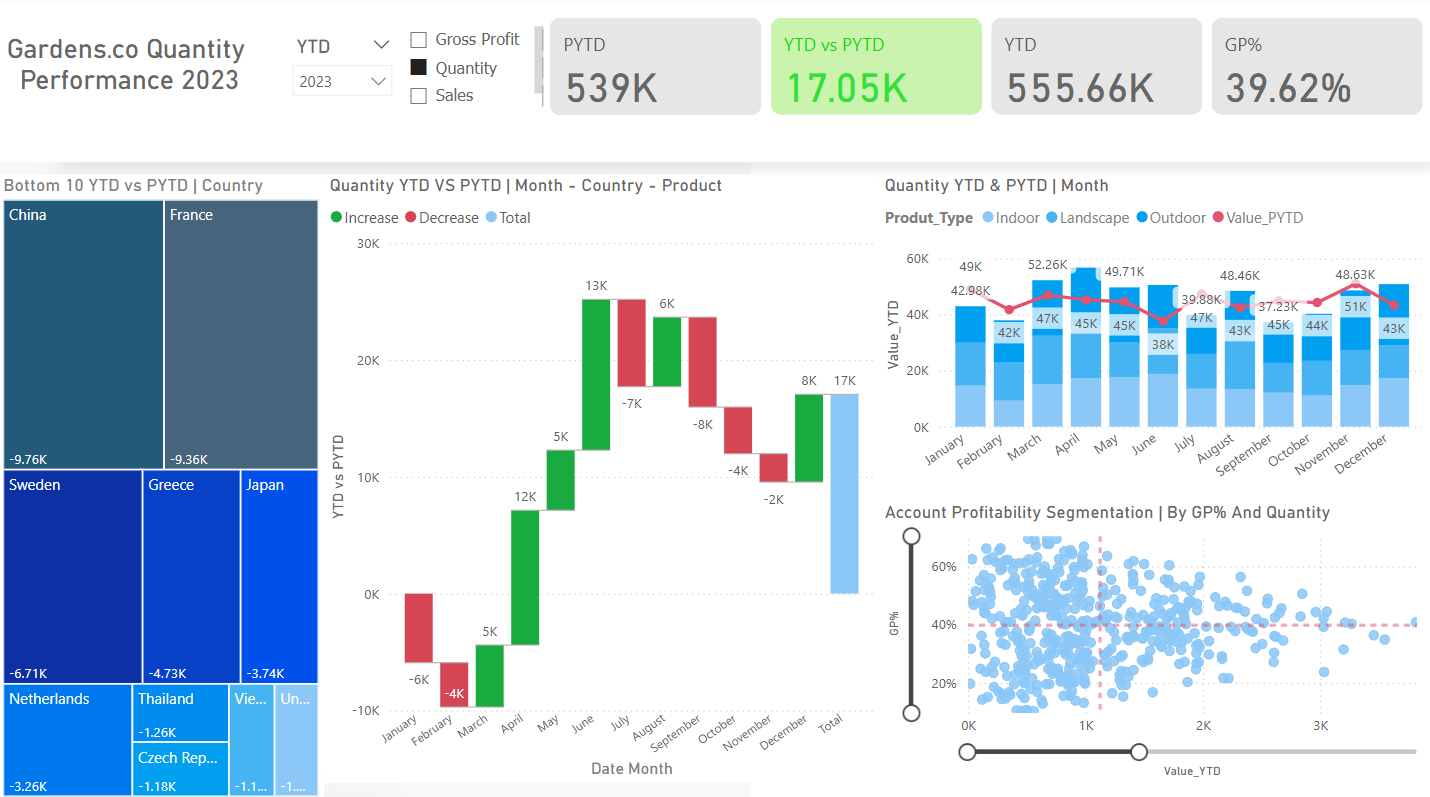

What the dashboard file says about the page in this screenshot:
{"tool":"powerbi","page":{"name":"Performance_report","canvas":[1280,720],"ordinal":0},"visuals":[{"type":"cardVisual","fields":{"Data":["formulas.sl_PYTD","formulas.YTD vs PYTD","formulas.sl_YTD","formulas.GP%"]},"box":[488,14.5,792.8,97.1],"z":0},{"type":"slicer","fields":{"Values":["slicer_values.Values"]},"box":[358.4,24.6,129.5,78.2],"z":1000},{"type":"slicer","fields":{"Values":["date_data.Date.Variation.Date Hierarchy.Year"]},"box":[254.6,31.3,103.8,64.8],"z":2000},{"type":"treemap","title":"Bottom 10 YTD vs PYTD | Country","fields":{"Values":["formulas.YTD vs PYTD"],"Group":["Accounts_data.country"]},"box":[0,159.7,291.4,560.5],"z":3000},{"type":"waterfallChart","fields":{"Y":["formulas.YTD vs PYTD"],"Category":["date_data.Date.Variation.Date Hierarchy.Month","Accounts_data.country","product_data.Produt_Type","product_data.Product_Name"]},"box":[291.8,159.4,495.3,543.1],"z":4000},{"type":"lineStackedColumnComboChart","fields":{"Y":["formulas.sl_YTD"],"Y2":["formulas.sl_PYTD"],"Category":["date_data.Date.Variation.Date Hierarchy.Month","date_data.Date.Variation.Date Hierarchy.Quarter"],"Series":["product_data.Produt_Type"]},"box":[787.1,159.4,492.9,293],"z":5000},{"type":"scatterChart","fields":{"Y":["formulas.GP%"],"X":["formulas.sl_YTD"],"Category":["Accounts_data.Account"]},"box":[787.4,452.3,492.3,250.6],"z":5001},{"type":"card","fields":{"Values":["formulas.Report_title"]},"box":[0,7.8,228.9,103.8],"z":5002}]}

Visuals, with their boxes in screenshot pixels (x1, y1, x2, y2), scaled from the page's 1280x720 canvas onto the 1430x797 screenshot:
cardVisual - formulas.sl_PYTD x formulas.YTD vs PYTD: [545, 16, 1429, 124]
slicer - slicer_values.Values: [400, 27, 545, 114]
slicer - date_data.Date.Variation.Date Hierarchy.Year: [284, 35, 400, 106]
"Bottom 10 YTD vs PYTD | Country" treemap: [0, 177, 326, 796]
waterfallChart - formulas.YTD vs PYTD x date_data.Date.Variation.Date Hierarchy.Month: [326, 176, 879, 778]
lineStackedColumnComboChart - formulas.sl_YTD x formulas.sl_PYTD: [879, 176, 1429, 501]
scatterChart - formulas.GP% x formulas.sl_YTD: [880, 501, 1429, 778]
card - formulas.Report_title: [0, 9, 256, 124]
